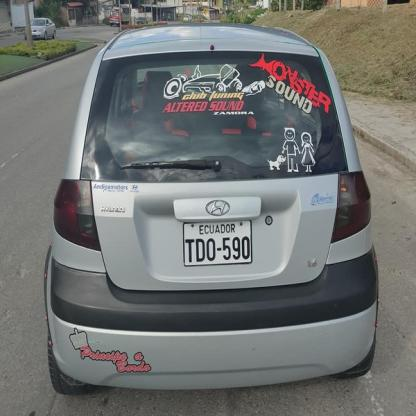Placa: (179, 221, 255, 266)
